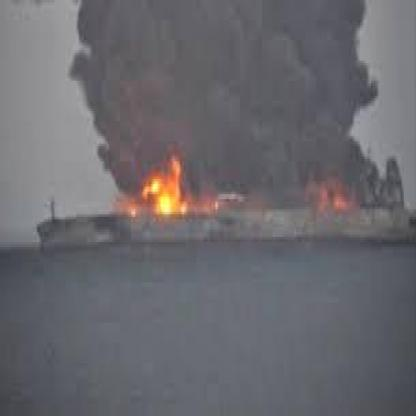fire: (120, 158, 219, 222), (314, 173, 356, 217)
smoke: (74, 2, 386, 174)
